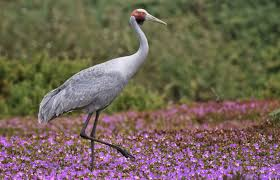Walking: (31, 5, 172, 176)
